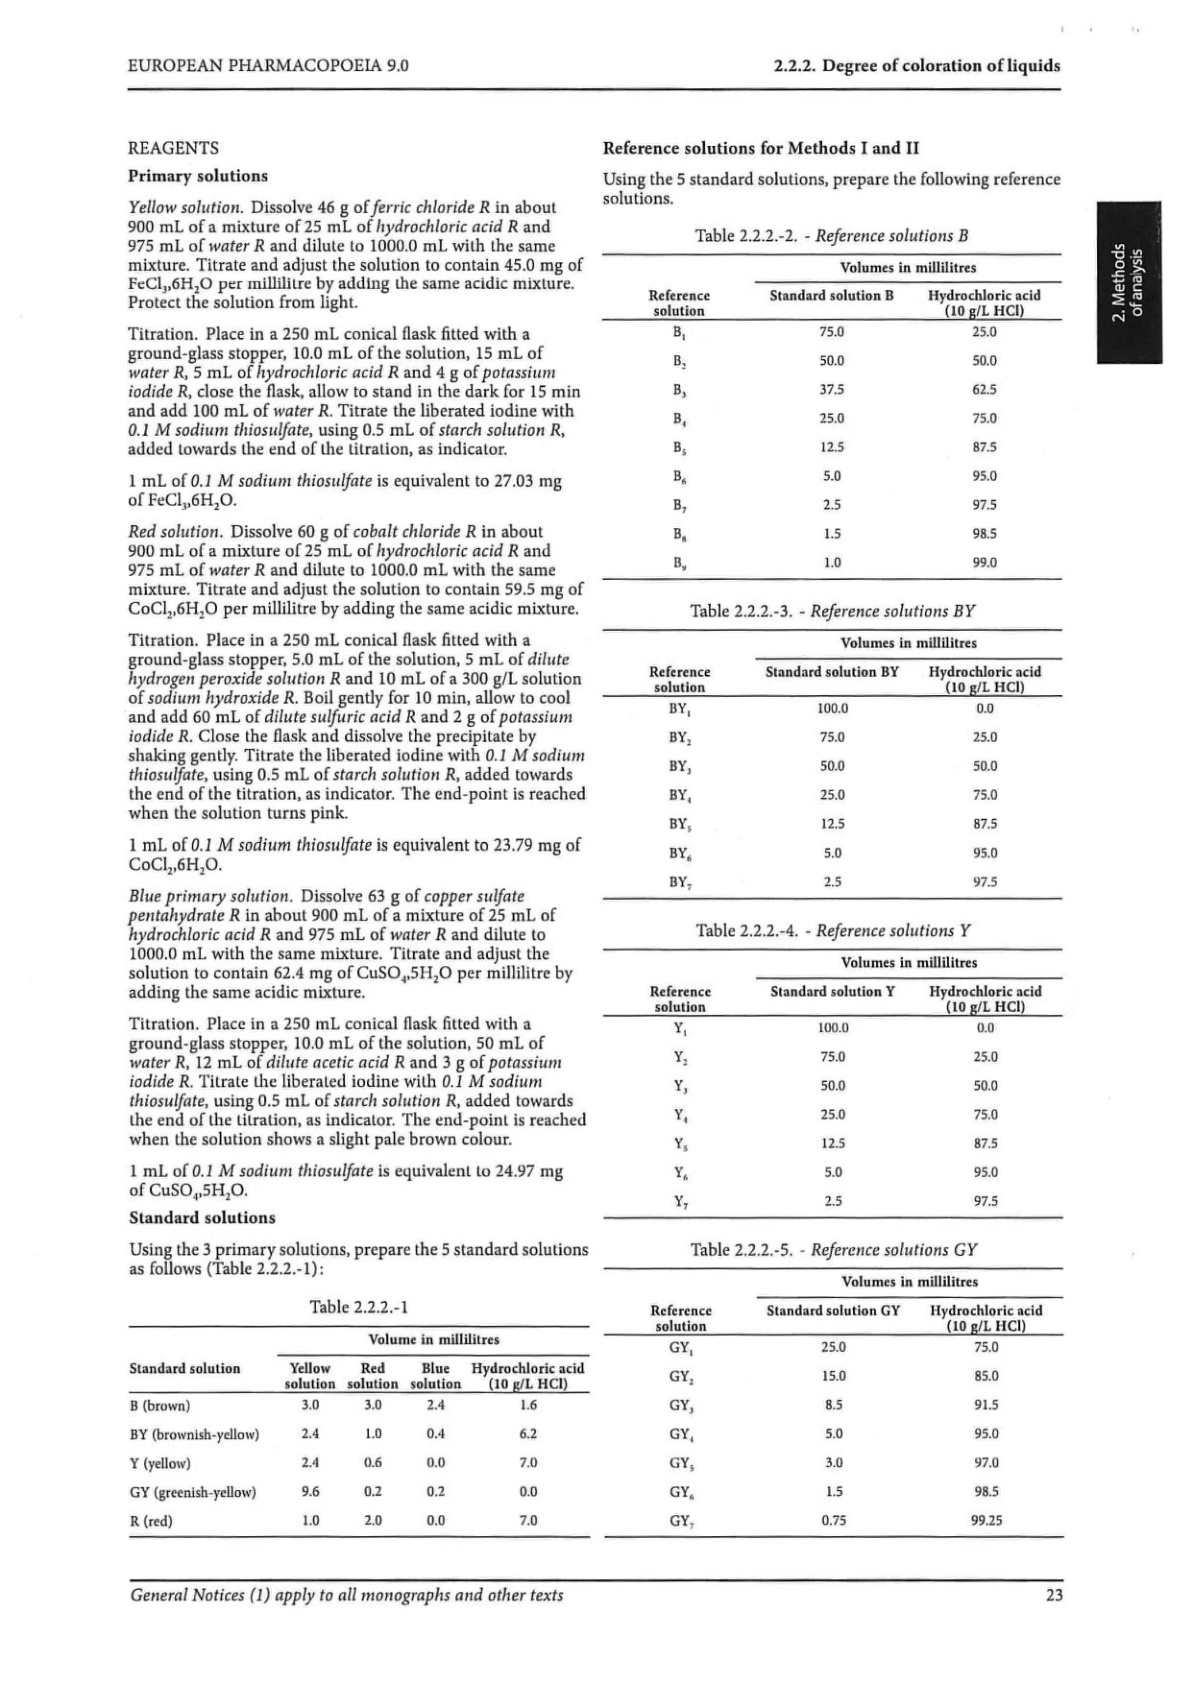partial_lined_merged_cells: (600, 253, 1061, 581), (600, 628, 1063, 901), (603, 1267, 1065, 1540), (603, 946, 1063, 1220), (127, 1325, 593, 1540)
